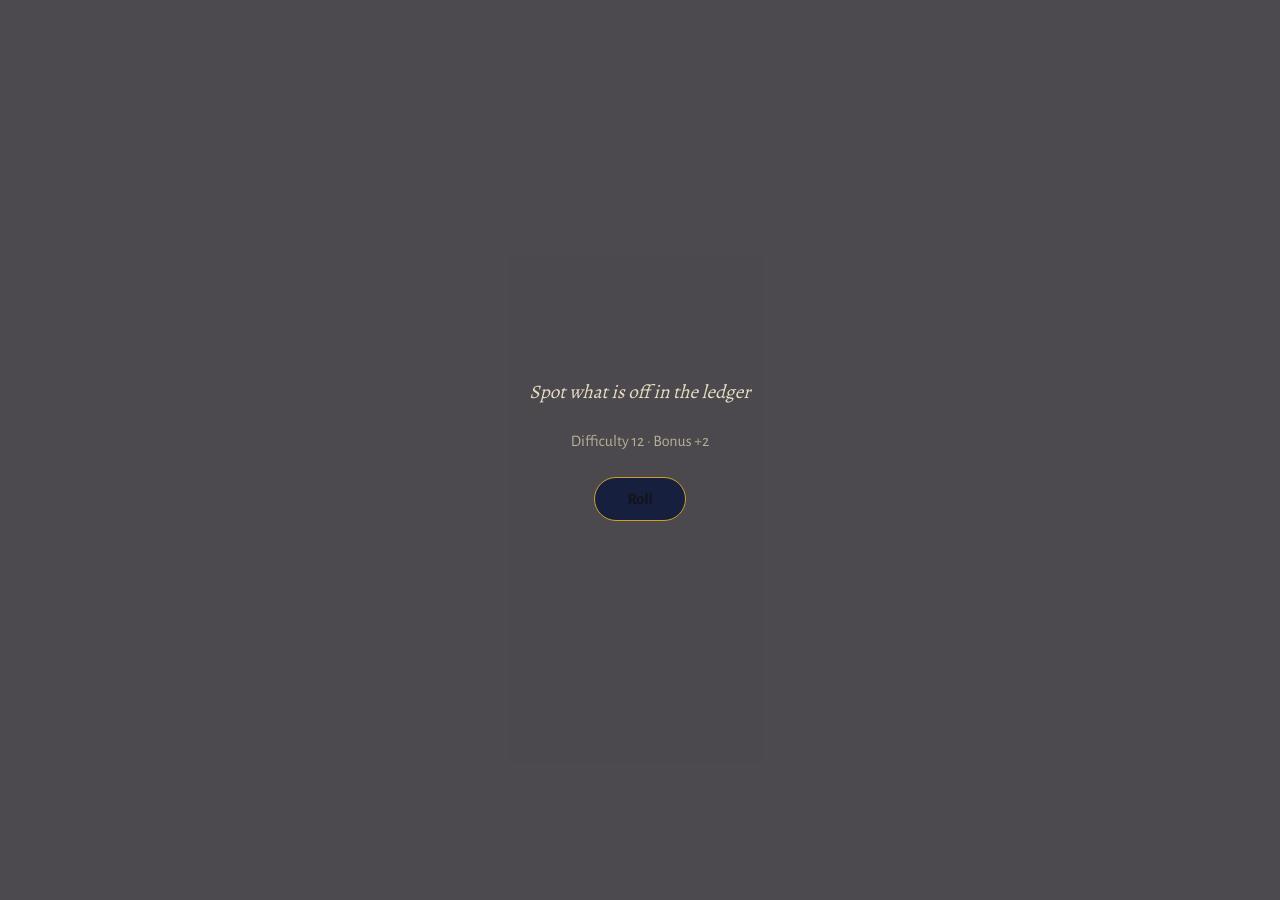
Test case: DiceMoment › Guardian or Investigator setback: only Continue, no reroll option
Click the button "Roll": (640, 499) [594,477,686,521]
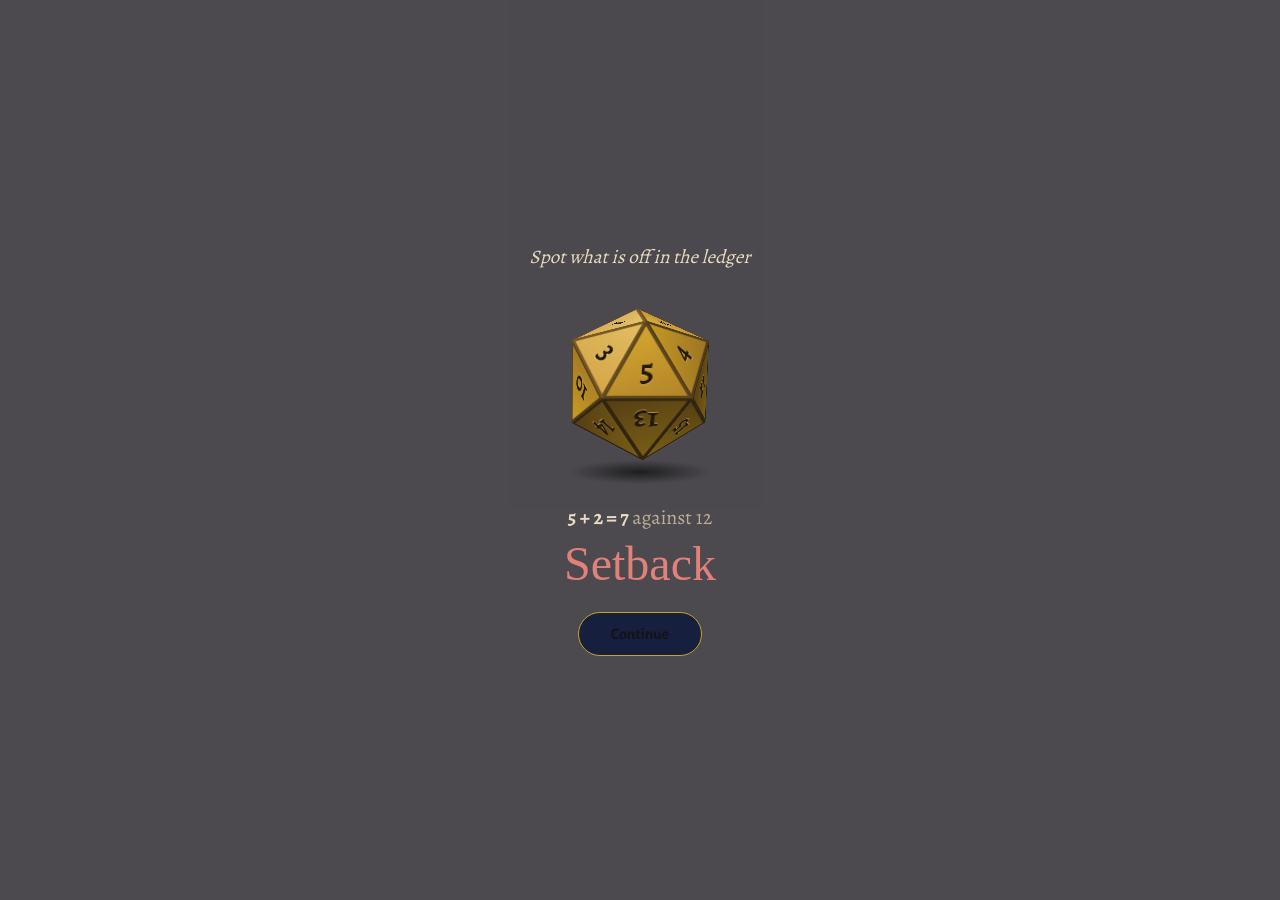
Check: the text with test id "dice-verdict" reads "Setback", box [564,537,716,590]
Check: the button "Continue" is shown, box [578,612,702,656]
